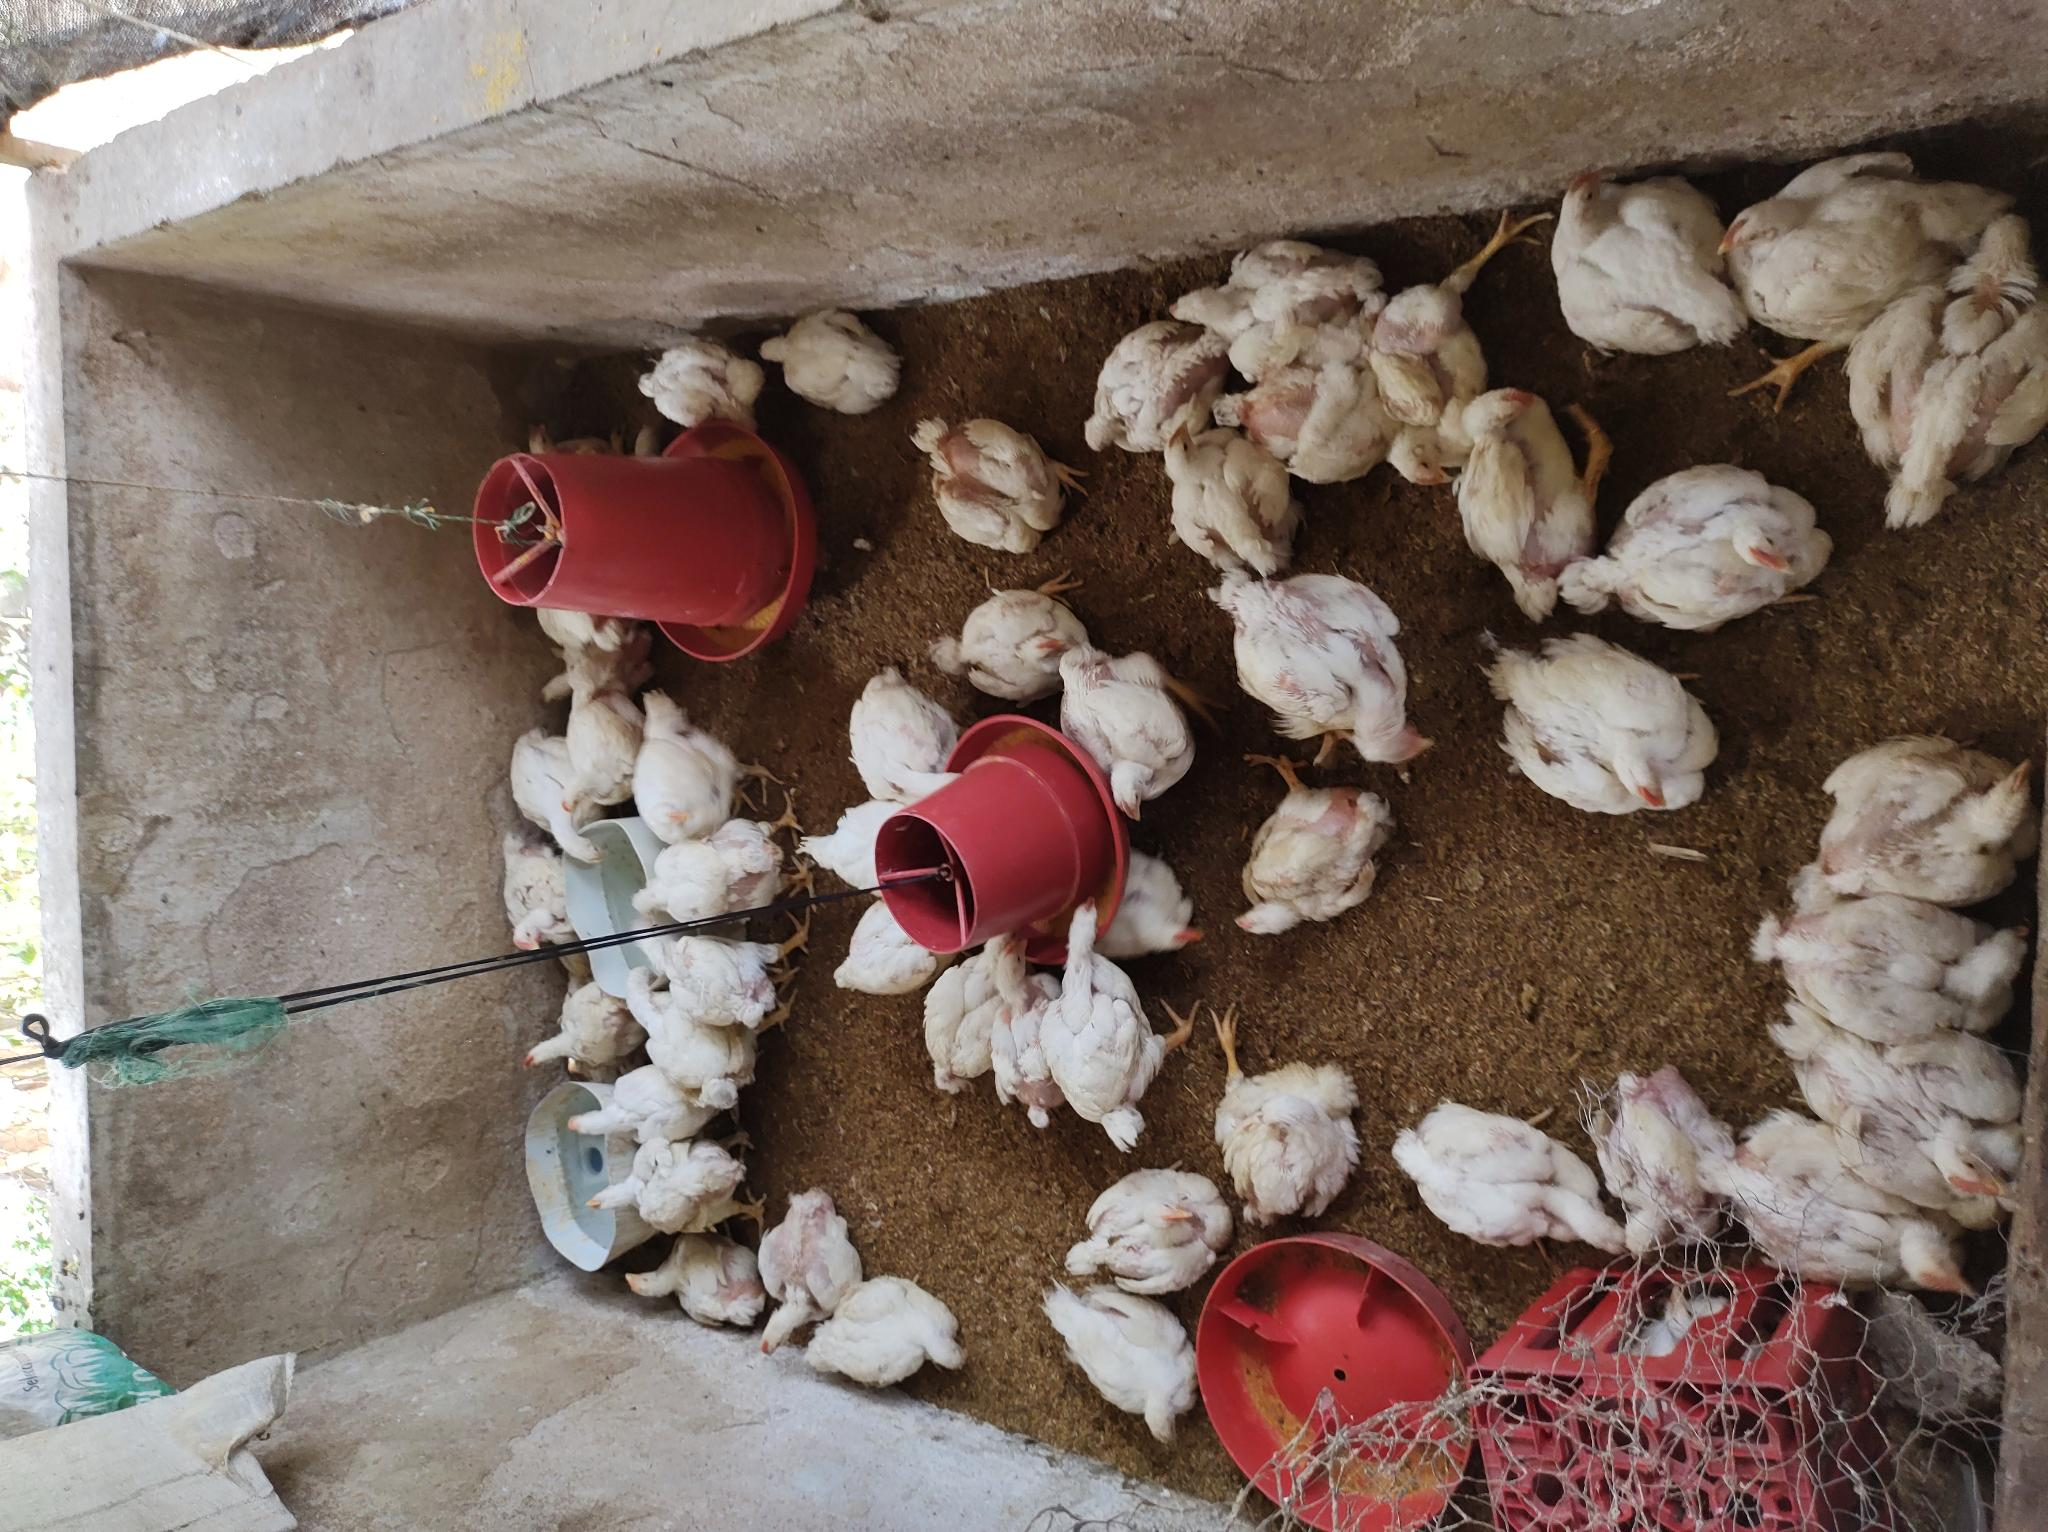Pollos: (1840, 203, 2048, 534), (1752, 998, 2027, 1220), (1712, 143, 1993, 351), (1688, 1110, 1987, 1305), (1565, 462, 1829, 634), (1215, 570, 1438, 772), (1477, 631, 1717, 817), (1771, 875, 2030, 1035), (1396, 1089, 1635, 1260), (1815, 729, 2038, 909), (1543, 164, 1738, 367), (1036, 893, 1171, 1154), (1583, 1056, 1742, 1266), (1453, 381, 1598, 612), (1036, 1268, 1211, 1453), (1147, 227, 1363, 377), (1369, 262, 1493, 500), (1199, 1054, 1366, 1228), (1039, 637, 1194, 826), (1221, 784, 1400, 946), (1186, 357, 1384, 488), (1059, 1162, 1240, 1303), (1150, 417, 1297, 592), (615, 966, 772, 1102), (624, 690, 763, 843), (800, 1275, 973, 1394), (909, 420, 1057, 558), (1071, 317, 1216, 455), (755, 1186, 866, 1363), (943, 578, 1096, 703), (840, 661, 965, 806), (911, 932, 1012, 1106), (623, 822, 785, 930), (751, 307, 906, 418), (579, 1139, 753, 1238), (648, 911, 792, 1028), (500, 726, 611, 874), (616, 1233, 775, 1334), (989, 929, 1075, 1114), (561, 674, 644, 834), (557, 1065, 721, 1144), (1089, 846, 1207, 956), (512, 974, 642, 1072), (484, 832, 584, 957), (790, 801, 917, 900), (832, 896, 940, 1007), (623, 344, 759, 423), (544, 595, 653, 690)
